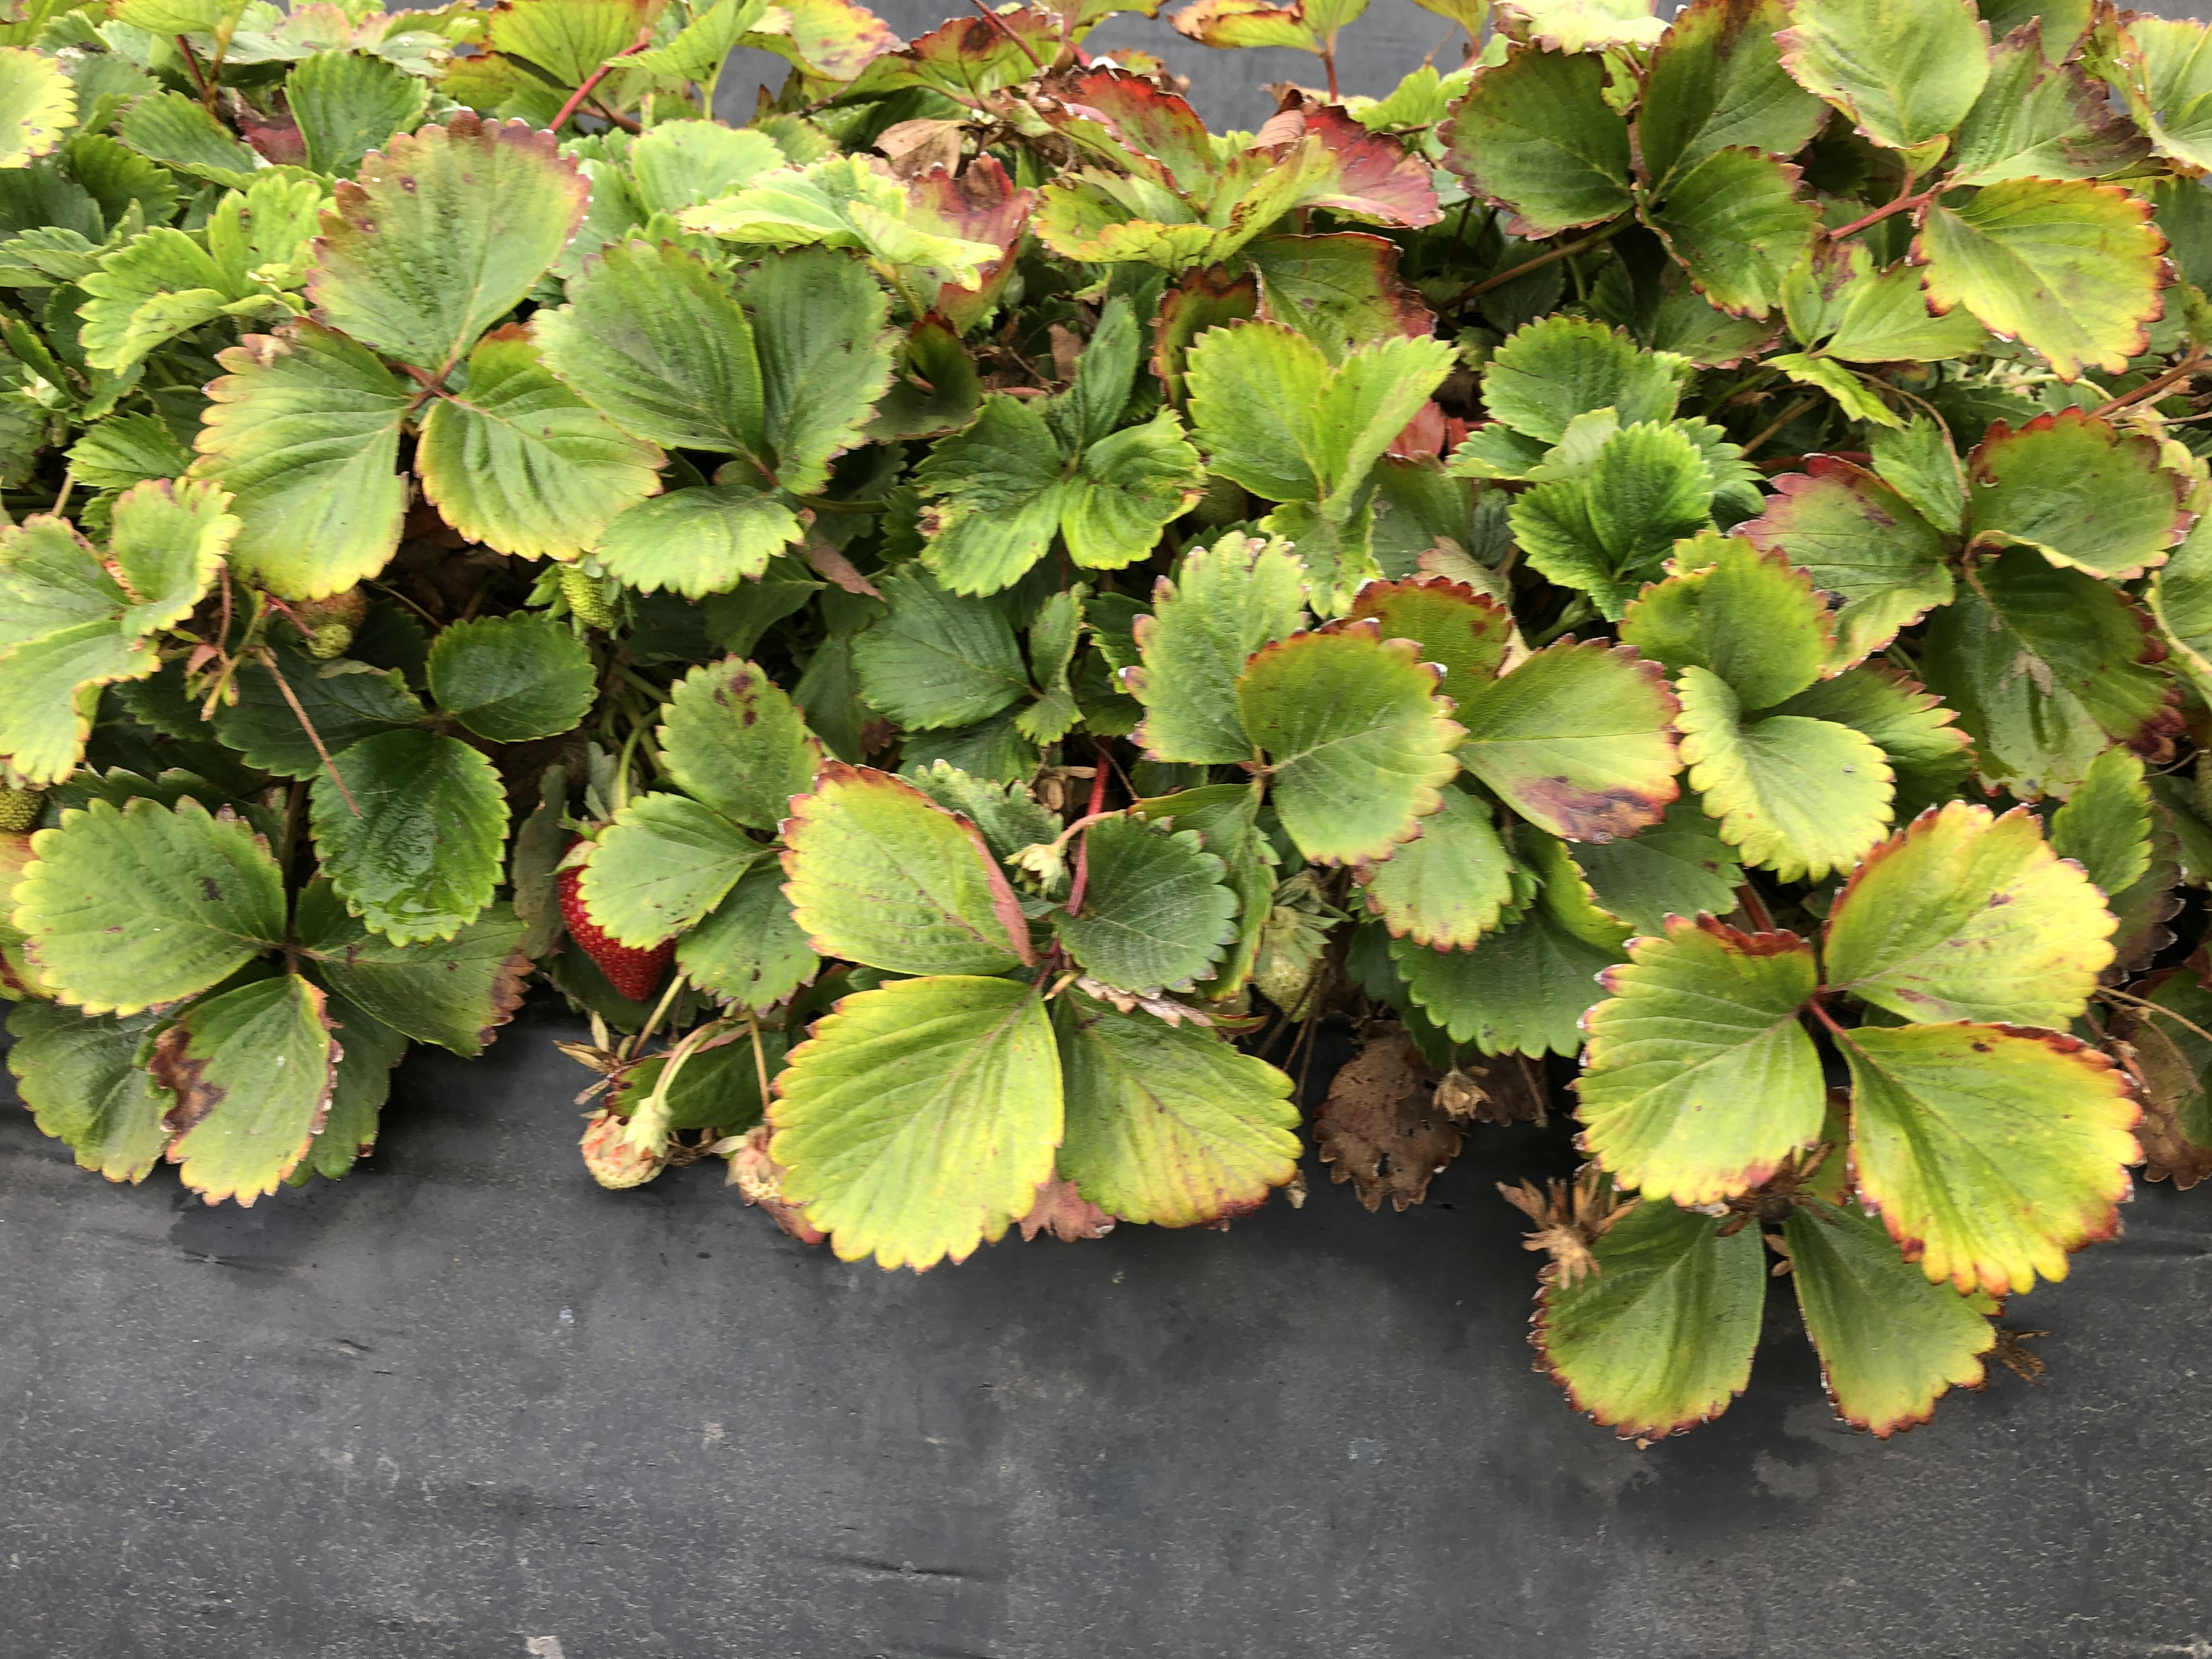ripe_strawberry: (559, 817, 676, 1006)
unripe_strawberry: (573, 1103, 679, 1199), (725, 1124, 792, 1206)
